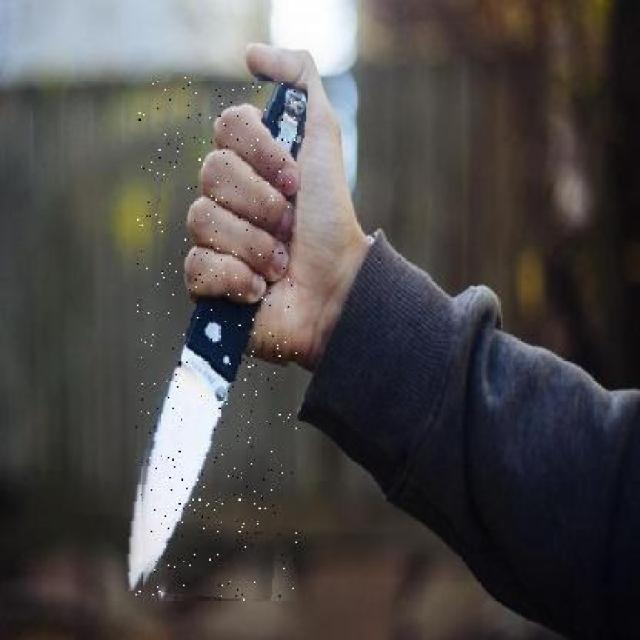knife: (136, 75, 296, 600)
